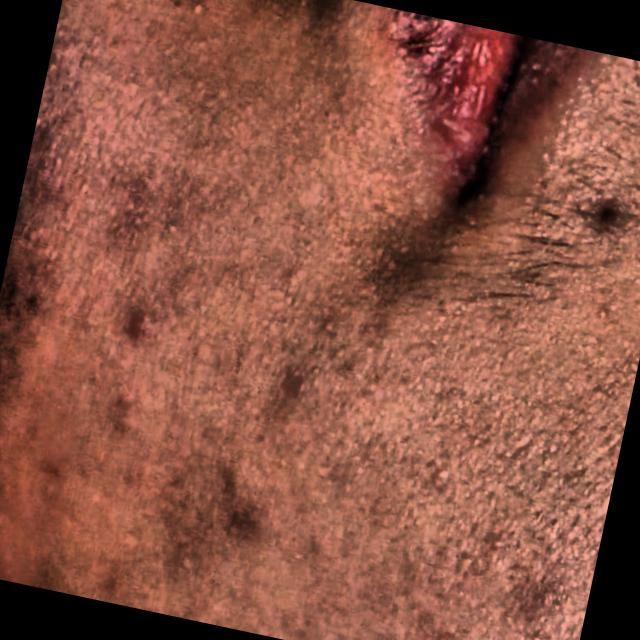whiteheads: (428, 462, 452, 486), (282, 271, 303, 290), (160, 218, 180, 236), (482, 533, 503, 550), (188, 0, 205, 18)
